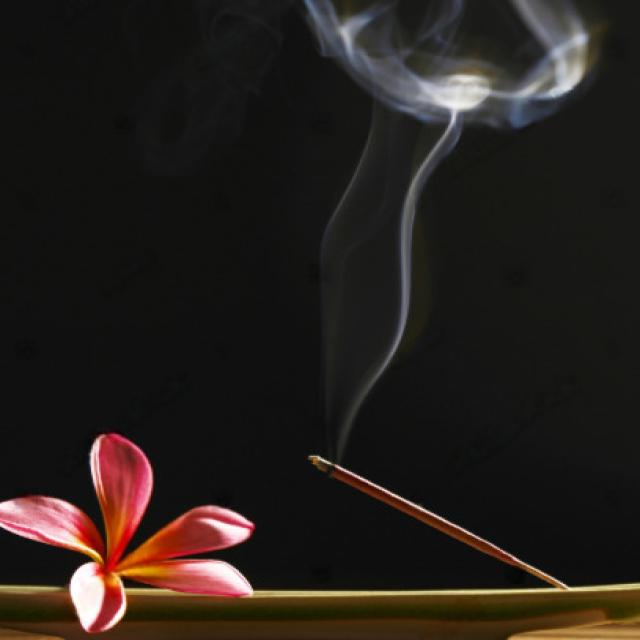Agarbatti: (294, 442, 579, 587)
